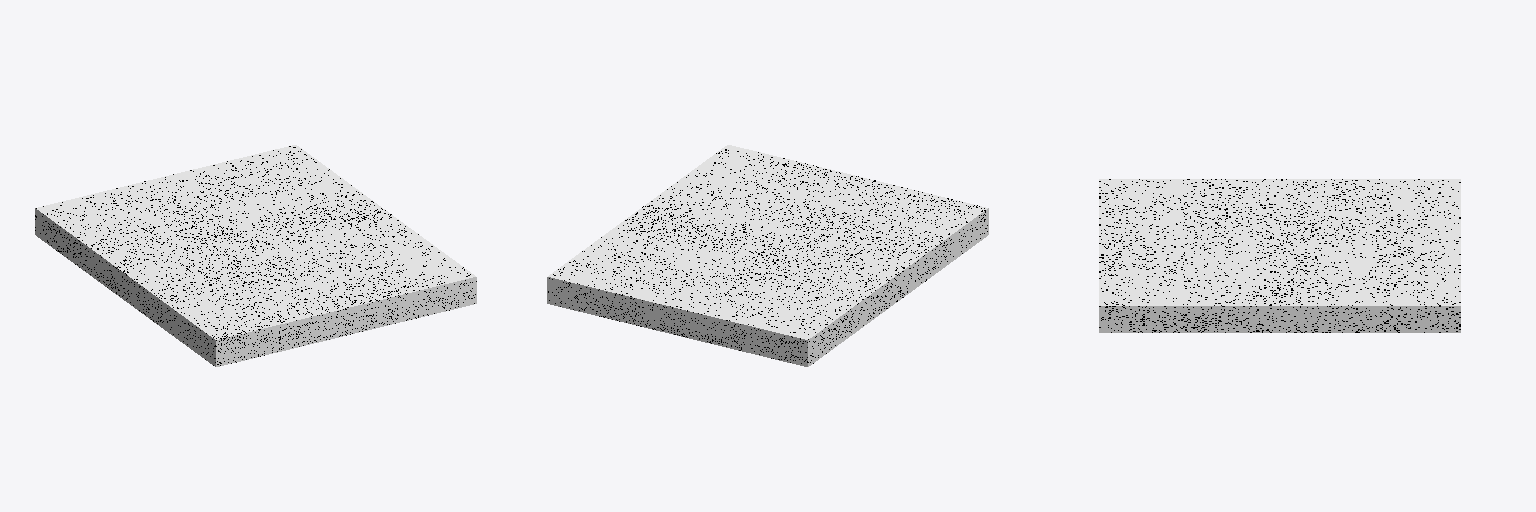
The picture shows the model from 3 angles: view 1: azimuth 30°, elevation 25°; view 2: azimuth 150°, elevation 25°; view 3: azimuth 270°, elevation 25°; orthographic projection.
Parts seen in each view (by area): view 1: Podloga.NR7_Cube.011; view 2: Podloga.NR7_Cube.011; view 3: Podloga.NR7_Cube.011.
Part boxes in pixels (x1,y1,x2,y2): Podloga.NR7_Cube.011: (35,145,476,366); Podloga.NR7_Cube.011: (547,145,988,366); Podloga.NR7_Cube.011: (1099,179,1460,332).
Size of the model in its own units: 5 by 0.5 by 6.
Materials: 1 (1 with a texture image).